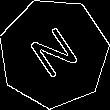N_SE: (23, 21, 85, 85)
